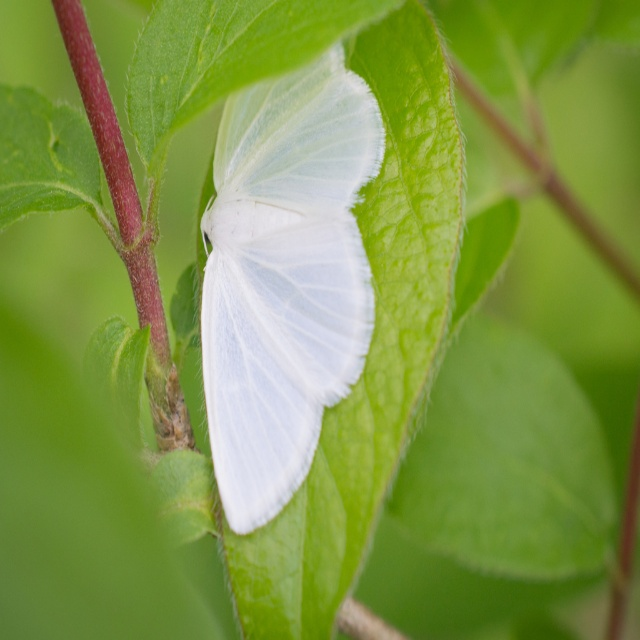Butterfly: (201, 37, 386, 536)
